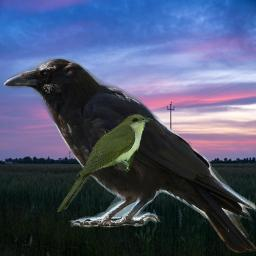Crow: (3, 57, 256, 253)
Cuckoo: (57, 114, 153, 214)
